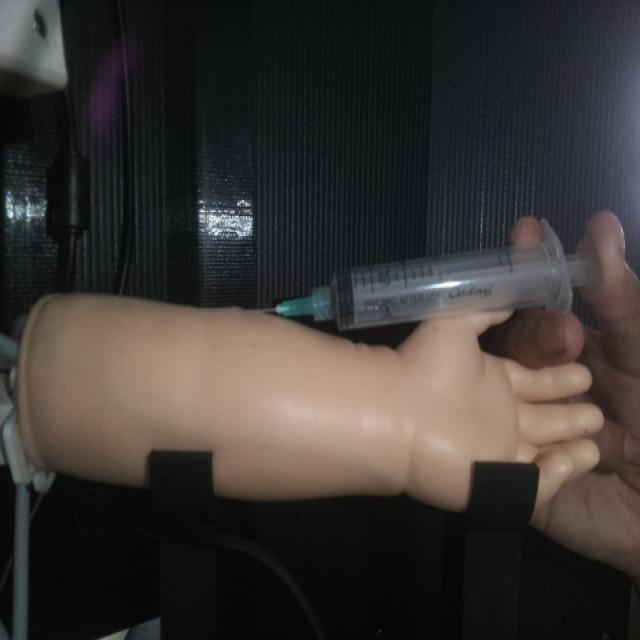Outside: (238, 215, 606, 333)
